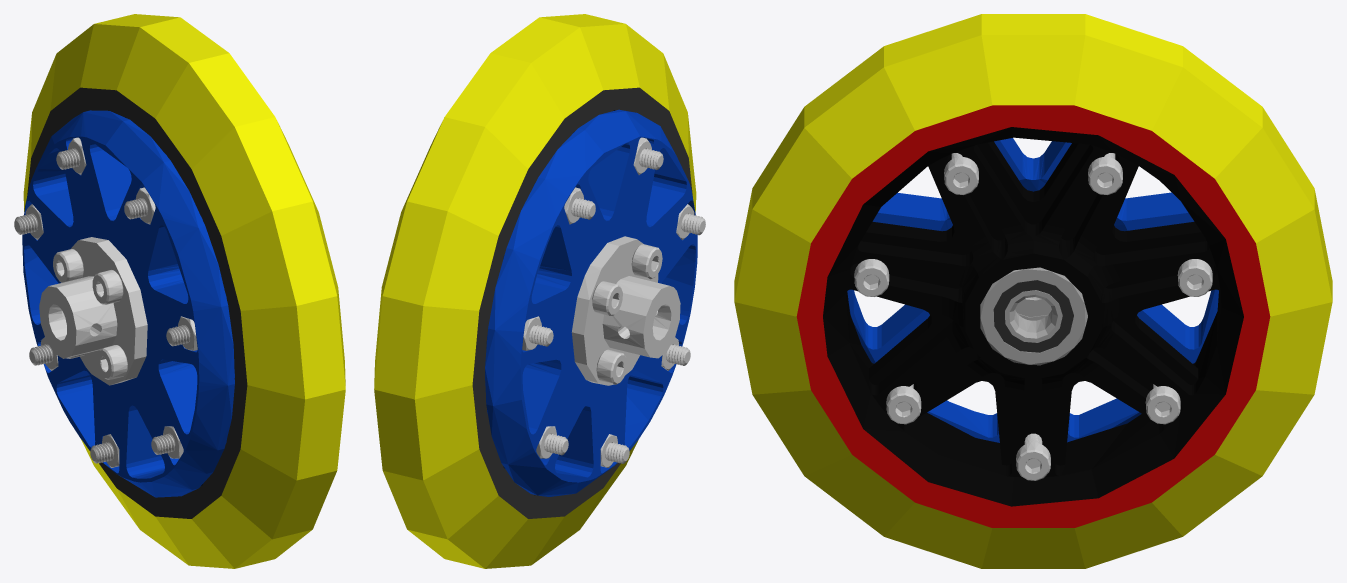
The model's file is wheel_full.obj.
3 views of the same model, side by side, from view 1: azimuth 30°, elevation 25°; view 2: azimuth 150°, elevation 25°; view 3: azimuth 270°, elevation 25° (orthographic). The views are drawn at different scales.
Parts seen in each view (by area): view 1: wheel_full; view 2: wheel_full; view 3: wheel_full.
Boxes of the visible parts, <box> form: wheel_full: <box>14,14,345,568</box>; wheel_full: <box>374,14,705,568</box>; wheel_full: <box>734,14,1332,568</box>.
Size of the model in its own units: 0.0432 by 0.1182 by 0.12.
